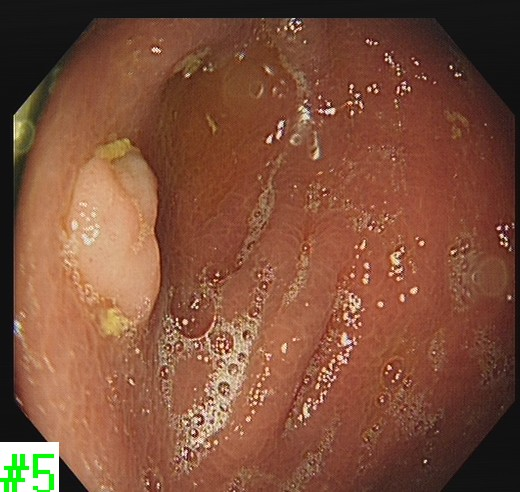adenoma: (64, 146, 162, 324)
